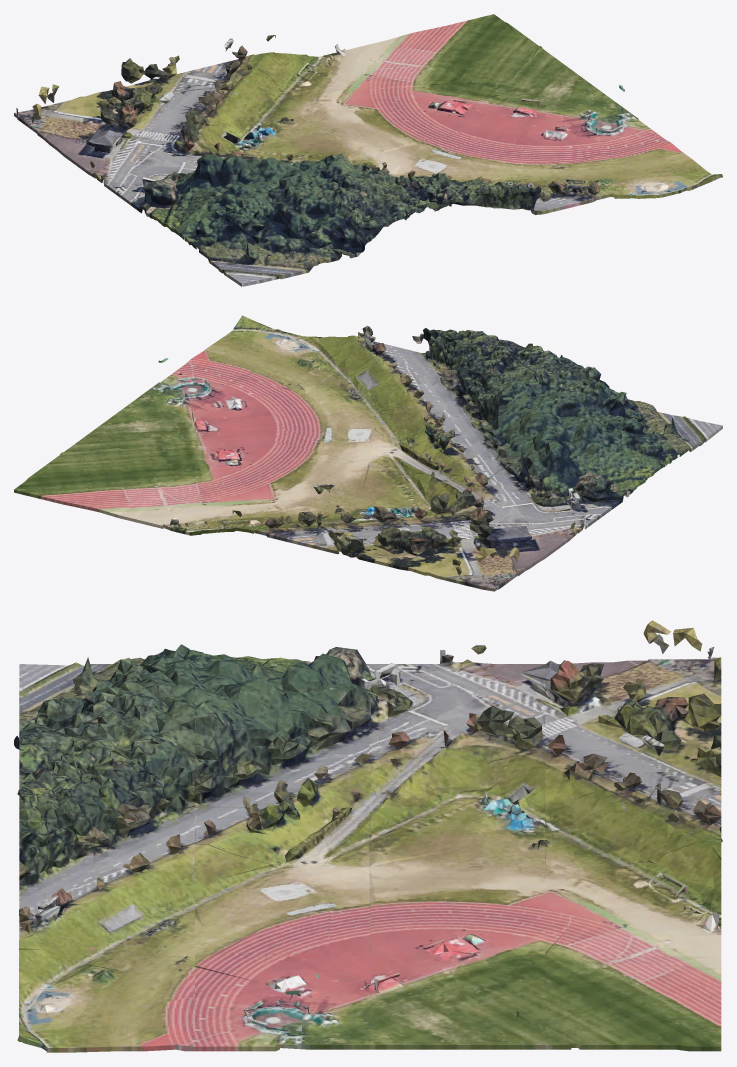
Rendered from Split1.fbx.
The picture shows the model from 3 angles, top to bottom: view 1: azimuth 30°, elevation 25°; view 2: azimuth 150°, elevation 25°; view 3: azimuth 270°, elevation 25°; orthographic projection. The views are drawn at different scales.
Visible parts, largest first — view 1: BuildingMesh-00166.001; view 2: BuildingMesh-00166.001; view 3: BuildingMesh-00166.001.
Boxes of the visible parts, box(x1,y1,x2,y2) form: BuildingMesh-00166.001: box(14, 14, 722, 286); BuildingMesh-00166.001: box(14, 315, 722, 591); BuildingMesh-00166.001: box(14, 620, 722, 1052).
Size of the model in its own units: 194 by 27.84 by 161.
4 materials, 4 textured.
